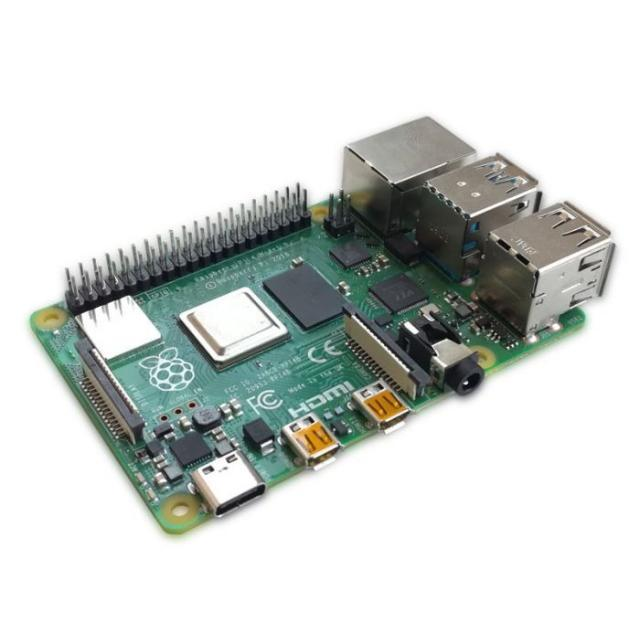Raspberry-Pi-4-B: (33, 119, 615, 534)
